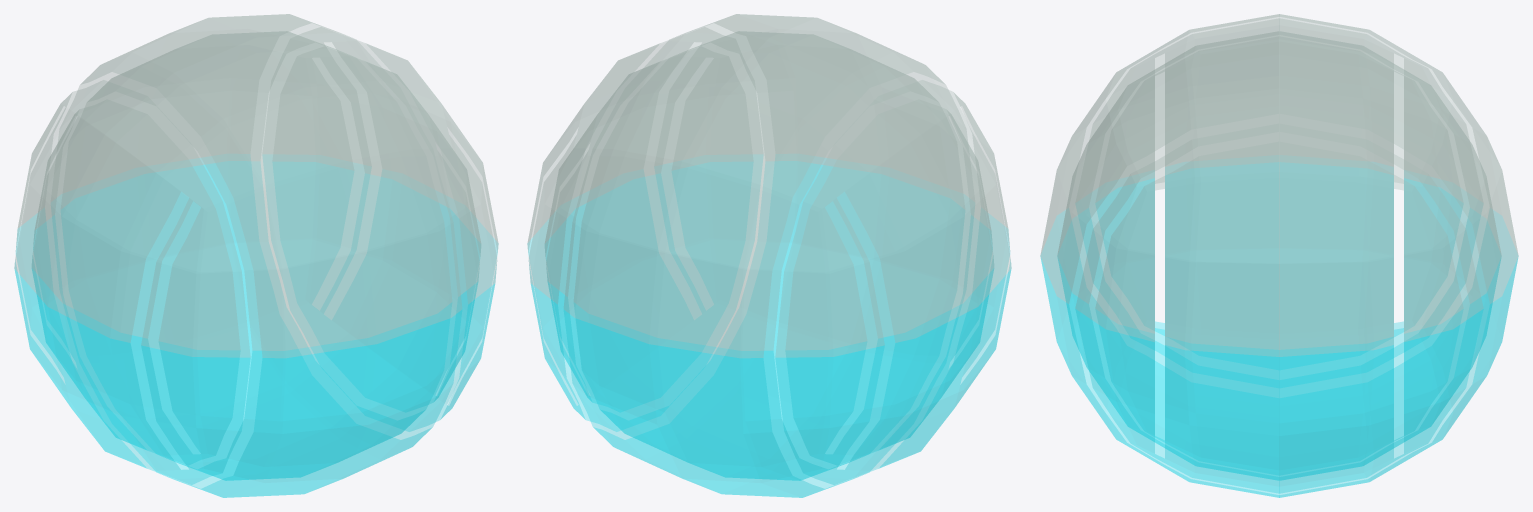
Rendered from hamsterBall.glb.
3 views of the same model, side by side, from view 1: azimuth 30°, elevation 25°; view 2: azimuth 150°, elevation 25°; view 3: azimuth 270°, elevation 25° (orthographic).
Parts seen in each view (by area): view 1: Cube; view 2: Cube; view 3: Cube.
Part boxes in pixels (<box>): Cube: <box>14,14,498,497</box>; Cube: <box>527,14,1011,497</box>; Cube: <box>1040,14,1518,497</box>.
Size of the model in its own units: 0.3 by 0.3 by 0.3.
2 materials, 2 textured.
